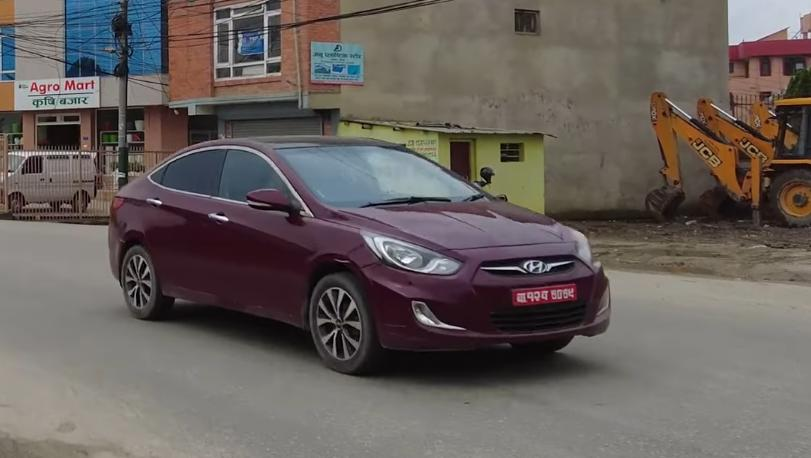car: (90, 104, 632, 381)
van: (0, 149, 99, 215)
